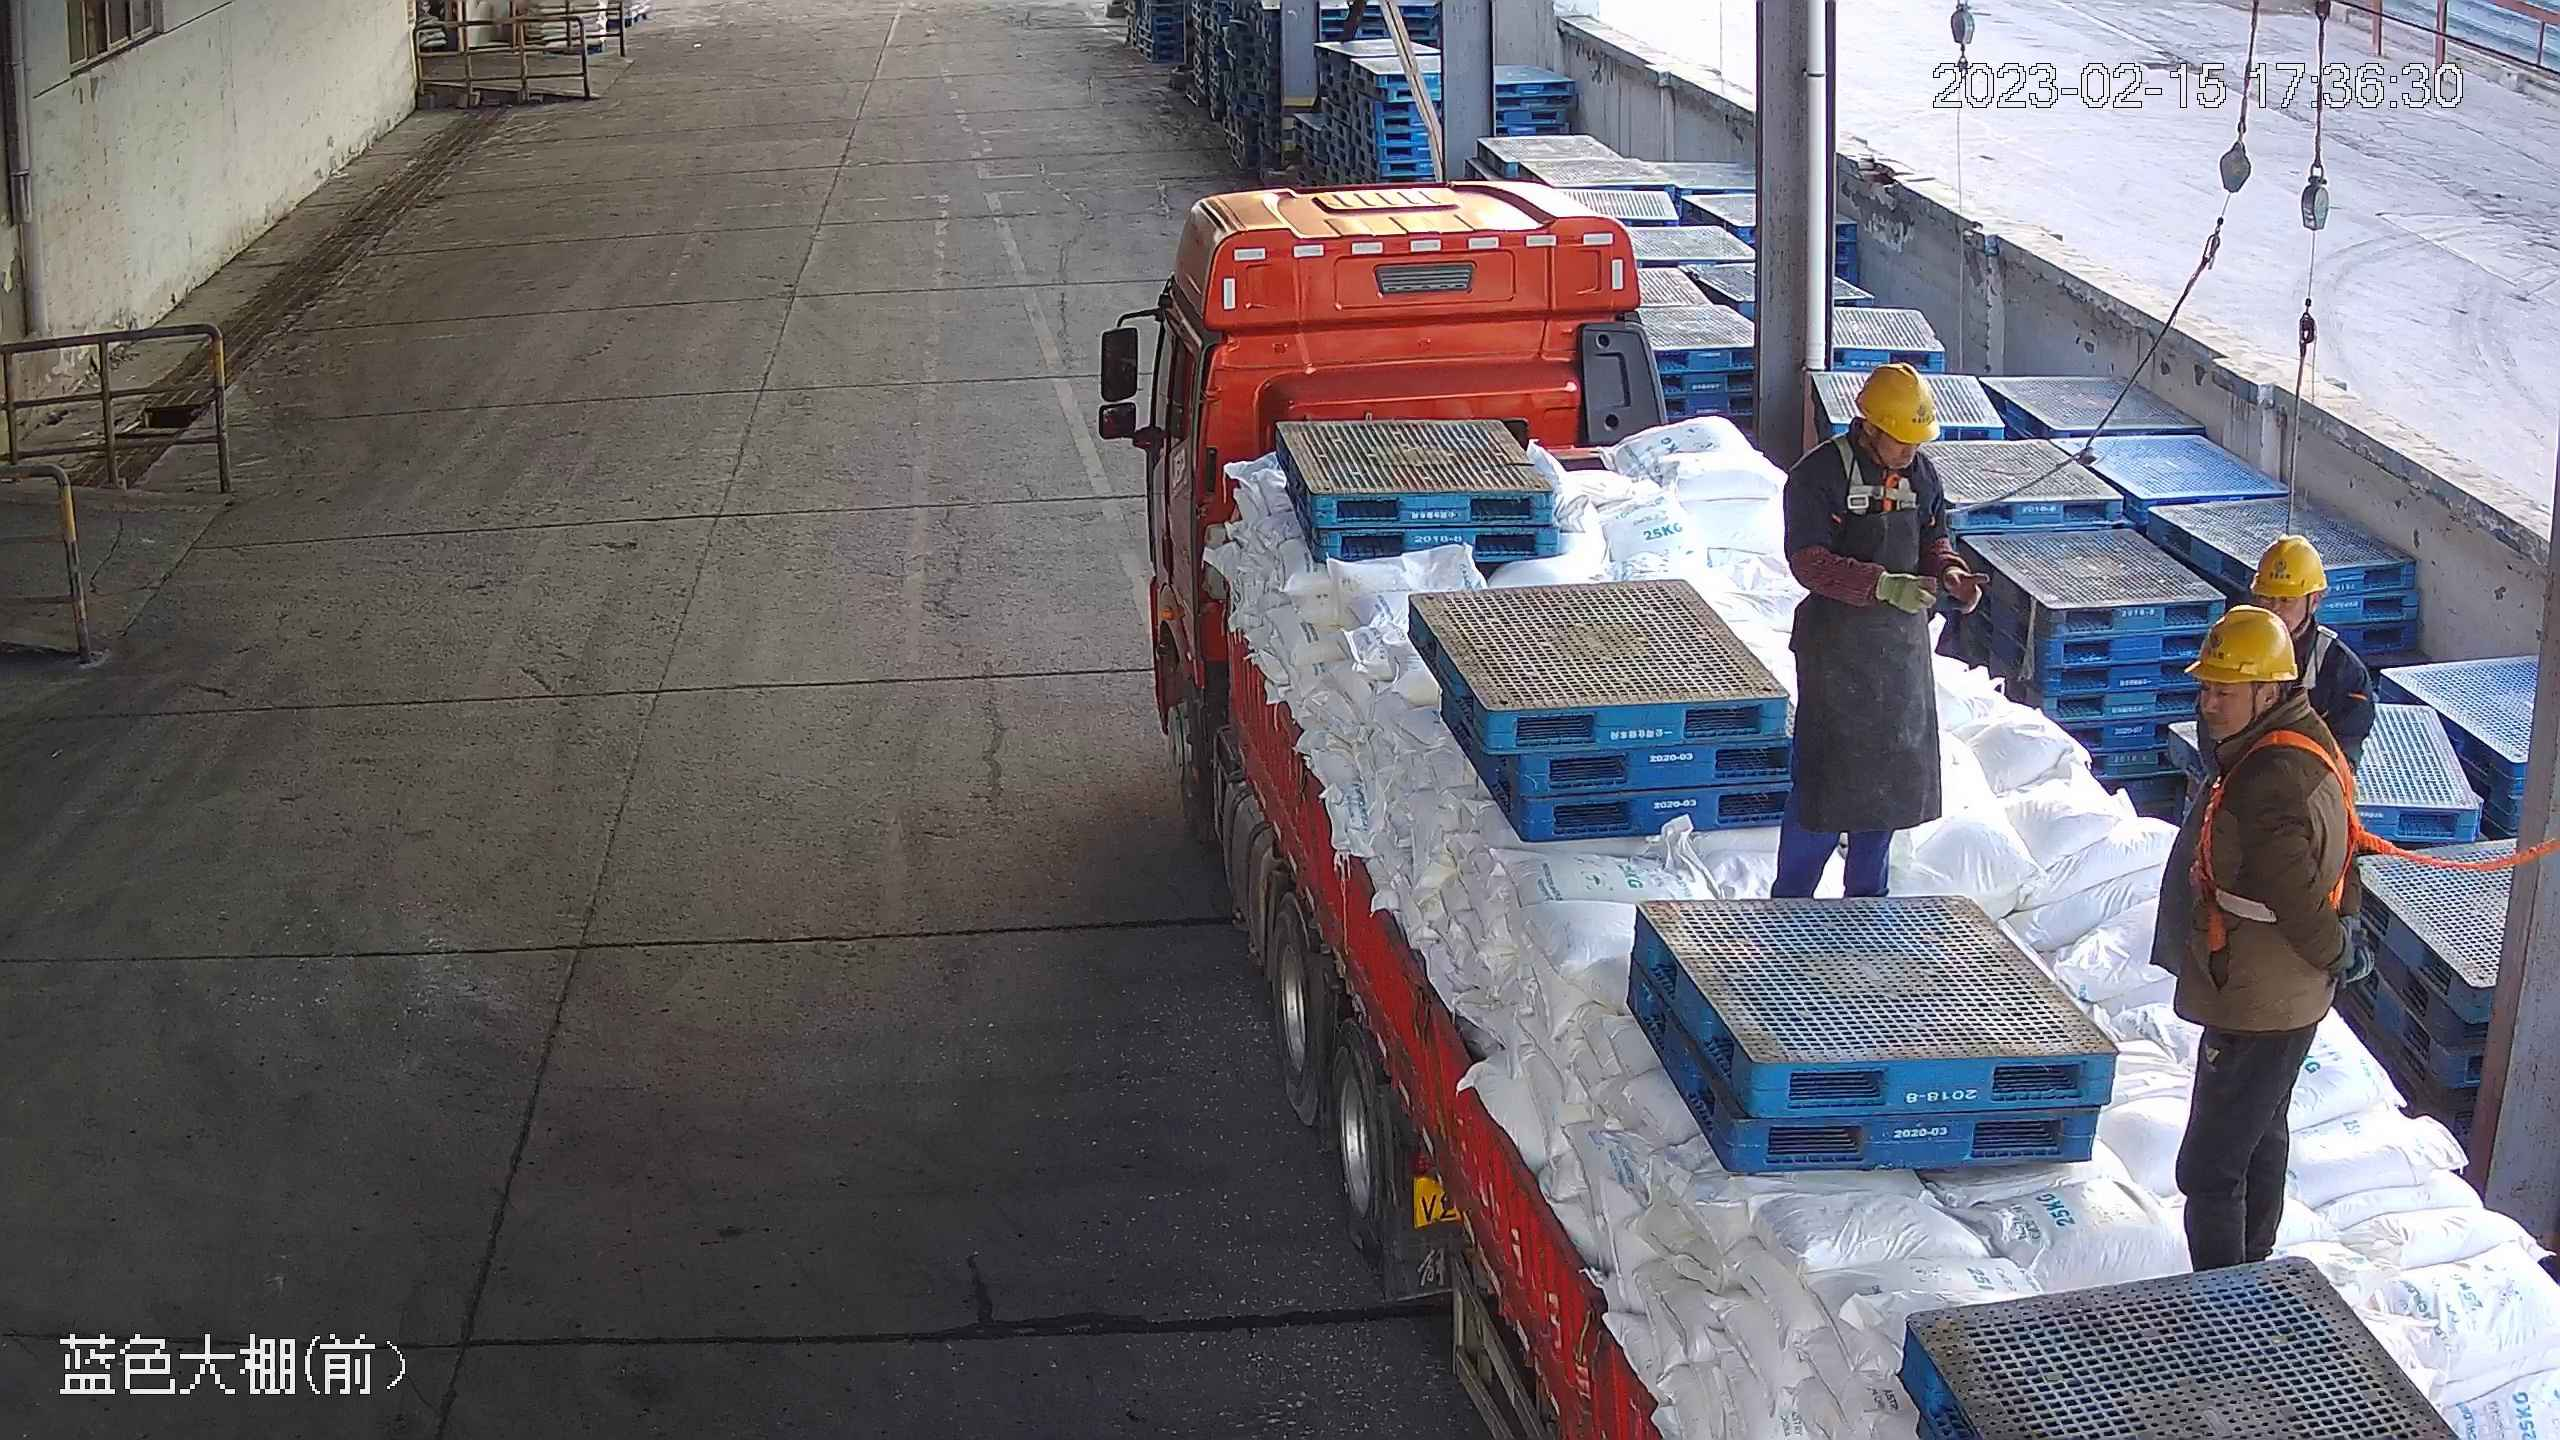belt: (2188, 731, 2414, 954), (1831, 432, 1918, 514)
head: (2182, 605, 2353, 847), (1787, 361, 1943, 504)
helmet: (2181, 602, 2301, 685), (1854, 360, 1942, 444), (2248, 532, 2327, 597)
people: (2147, 605, 2377, 1274), (1770, 360, 1991, 897)
truck: (1097, 176, 2560, 1440)
